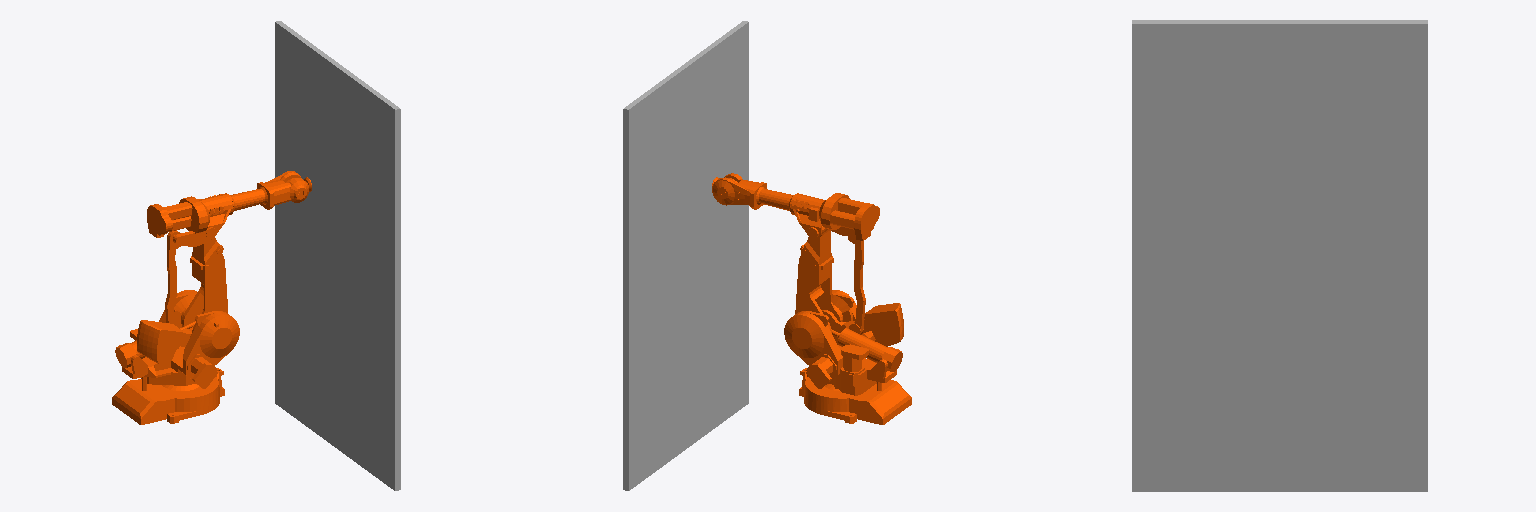
URDF robot description (irb4400):
<?xml version="1.0" ?>
<!-- =================================================================================== -->
<!-- |    This document was autogenerated by xacro from irb4400.urdf.xacro             | -->
<!-- |    EDITING THIS FILE BY HAND IS NOT RECOMMENDED                                 | -->
<!-- =================================================================================== -->
<robot name="irb4400" xmlns:xacro="http://www.ros.org/wiki/xacro">
  <material name="Black">
    <color rgba="0.0 0.0 0.0 1.0"/>
  </material>
  <material name="Blue">
    <color rgba="0.0 0.0 0.8 1.0"/>
  </material>
  <material name="Green">
    <color rgba="0.0 0.8 0.0 1.0"/>
  </material>
  <material name="Grey">
    <color rgba="0.5 0.5 0.5 1.0"/>
  </material>
  <material name="Light_Grey">
    <color rgba="0.8 0.8 0.8 1.0"/>
  </material>
  <material name="Ivory">
    <color rgba="1.0 1.0 0.94 1.0"/>
  </material>
  <material name="Orange">
    <color rgba="1.0 0.423529411765 0.0392156862745 1.0"/>
  </material>
  <material name="Brown">
    <color rgba="0.870588235294 0.811764705882 0.764705882353 1.0"/>
  </material>
  <material name="Red">
    <color rgba="0.8 0.0 0.0 1.0"/>
  </material>
  <material name="White">
    <color rgba="1.0 1.0 1.0 1.0"/>
  </material>
  <link name="base_link"/>
  <link name="the_wall">
    <visual>
      <origin rpy="0 0 0" xyz="0 0 0"/>
      <geometry>
        <box size="0.05 2 3.5"/>
      </geometry>
      <material name="LightGrey">
        <color rgba="0.75 0.75 0.75 1.0"/>
      </material>
    </visual>
    <collision>
      <origin rpy="0 0 0" xyz="0 0 0"/>
      <geometry>
        <box size="0.05 2 3.5"/>
      </geometry>
    </collision>
  </link>
  <link name="irb4400_link_1_base">
    <visual>
      <origin rpy="0 0 0" xyz="0 0 0"/>
      <geometry>
        <mesh filename="package://irb4400_description/meshes/link1.STL"/>
      </geometry>
      <material name="Orange"/>
    </visual>
    <collision>
      <origin rpy="0 0 0" xyz="0 0 0"/>
      <geometry>
        <mesh filename="package://irb4400_description/meshes/link1.STL"/>
      </geometry>
    </collision>
    <inertial>
      <origin rpy="0 0 0" xyz="-0.09014 0.00 -0.11602"/>
      <mass value="75.69606"/>
      <inertia ixx="2.02158864748" ixy="-0.00000245857" ixz="0.07215053239" iyy="3.96573960599" iyz="-0.00000018955" izz="5.58000931701"/>
    </inertial>
  </link>
  <link name="irb4400_link_2_secondbase">
    <visual>
      <origin rpy="0 0 0" xyz="0 0 0"/>
      <geometry>
        <mesh filename="package://irb4400_description/meshes/link2.STL"/>
      </geometry>
      <material name="Orange"/>
    </visual>
    <collision>
      <origin rpy="0 0 0" xyz="0 0 0"/>
      <geometry>
        <mesh filename="package://irb4400_description/meshes/link2.STL"/>
      </geometry>
    </collision>
    <inertial>
      <origin rpy="0 0 0" xyz="0.0231 0.02424 0.28312"/>
      <mass value="106.0064"/>
      <inertia ixx="7.76707391051" ixy="-0.65413192657" ixz="1.80808632391" iyy="6.55334982091" iyz="-0.21975875117" izz="8.63984458622"/>
    </inertial>
  </link>
  <link name="irb4400_link_3_cylinder">
    <visual>
      <origin rpy="0 0 0" xyz="0 0 0"/>
      <geometry>
        <mesh filename="package://irb4400_description/meshes/link3.STL"/>
      </geometry>
      <material name="Orange"/>
    </visual>
    <collision>
      <origin rpy="0 0 0" xyz="0 0 0"/>
      <geometry>
        <mesh filename="package://irb4400_description/meshes/link3.STL"/>
      </geometry>
    </collision>
    <inertial>
      <origin rpy="0 0 0" xyz="0.179 0.00 -0.00002"/>
      <mass value="11.53566"/>
      <inertia ixx="0.04074759034" ixy="0.00000000000" ixz="0.00004858592" iyy="0.30850932573" iyz="0.00" izz="0.30903668614"/>
    </inertial>
  </link>
  <link name="irb4400_link_4_piston">
    <visual>
      <origin rpy="0 0 0" xyz="0 0 0"/>
      <geometry>
        <mesh filename="package://irb4400_description/meshes/link4.STL"/>
      </geometry>
      <material name="Orange"/>
    </visual>
    <collision>
      <origin rpy="0 0 0" xyz="0 0 0"/>
      <geometry>
        <mesh filename="package://irb4400_description/meshes/link4.STL"/>
      </geometry>
    </collision>
    <inertial>
      <origin rpy="0 0 0" xyz="-0.24431 0.00 0.00"/>
      <mass value="0.75584"/>
      <inertia ixx="0.00019733407" ixy="0.00000000000" ixz="0.00" iyy="0.03156433794" iyz="0.00" izz="0.03148203319"/>
    </inertial>
  </link>
  <link name="irb4400_link_5_counterweight">
    <visual>
      <origin rpy="0 0 0" xyz="0 0 0"/>
      <geometry>
        <mesh filename="package://irb4400_description/meshes/link5.STL"/>
      </geometry>
      <material name="Orange"/>
    </visual>
    <collision>
      <origin rpy="0 0 0" xyz="0 0 0"/>
      <geometry>
        <mesh filename="package://irb4400_description/meshes/link5.STL"/>
      </geometry>
    </collision>
    <inertial>
      <origin rpy="0 0 0" xyz="-0.45632 -0.09644 0.03106"/>
      <mass value="19.39243"/>
      <inertia ixx="0.22343149172" ixy="0.11871670137" ixz="-0.00685091375" iyy="0.68945149758" iyz="-0.01963332363" izz="0.64664468298"/>
    </inertial>
  </link>
  <link name="irb4400_link_6_mountarm_back">
    <visual>
      <origin rpy="0 0 0" xyz="0 0 0"/>
      <geometry>
        <mesh filename="package://irb4400_description/meshes/link6.STL"/>
      </geometry>
      <material name="Orange"/>
    </visual>
    <collision>
      <origin rpy="0 0 0" xyz="0 0 0"/>
      <geometry>
        <mesh filename="package://irb4400_description/meshes/link6.STL"/>
      </geometry>
    </collision>
    <inertial>
      <origin rpy="0 0 0" xyz="-0.1777 -0.2234 0.46383"/>
      <mass value="3.12307"/>
      <inertia ixx="0.31945679899" ixy="0.00004669001" ixz="0.00538016881" iyy="0.32175995655" iyz="-0.00004947451" izz="0.00326582296"/>
    </inertial>
  </link>
  <link name="irb4400_link_6_auxiliary">
    <inertial>
      <origin rpy="0 0 0" xyz="0 0 0.89"/>
      <mass value="0.00"/>
      <inertia ixx="1" ixy="0" ixz="0" iyy="1" iyz="0" izz="1"/>
    </inertial>
  </link>
  <link name="irb4400_link_7_mountarm_front">
    <visual>
      <origin rpy="0 0 0" xyz="0 0 0"/>
      <geometry>
        <mesh filename="package://irb4400_description/meshes/link7.STL"/>
      </geometry>
      <material name="Orange"/>
    </visual>
    <collision>
      <origin rpy="0 0 0" xyz="0 0 0"/>
      <geometry>
        <mesh filename="package://irb4400_description/meshes/link7.STL"/>
      </geometry>
    </collision>
    <inertial>
      <origin rpy="0 0 0" xyz="0.06278 0.08805 0.40197"/>
      <mass value="30.98388"/>
      <inertia ixx="2.37305548407" ixy="-0.00037165355" ixz="-0.07708847390" iyy="2.35788846934" iyz="-0.03346985497" izz="0.29095169577"/>
    </inertial>
  </link>
  <link name="irb4400_link_8_armlink1">
    <visual>
      <origin rpy="0 0 0" xyz="0 0 0"/>
      <geometry>
        <mesh filename="package://irb4400_description/meshes/link8.STL"/>
      </geometry>
      <material name="Orange"/>
    </visual>
    <collision>
      <origin rpy="0 0 0" xyz="0 0 0"/>
      <geometry>
        <mesh filename="package://irb4400_description/meshes/link8.STL"/>
      </geometry>
    </collision>
    <inertial>
      <origin rpy="0 0 0" xyz="-0.12332 0.13239 0.13886"/>
      <mass value="3.141516"/>
      <inertia ixx="0.36751429290" ixy="0.01671715853" ixz="-0.03383121212" iyy="1.28059358192" iyz="0.01886768705" izz="1.30821199705"/>
    </inertial>
  </link>
  <link name="irb4400_link_9_armlink2">
    <visual>
      <origin rpy="0 0 0" xyz="0 0 0"/>
      <geometry>
        <mesh filename="package://irb4400_description/meshes/link9.STL"/>
      </geometry>
      <material name="Orange"/>
    </visual>
    <collision>
      <origin rpy="0 0 0" xyz="0 0 0"/>
      <geometry>
        <mesh filename="package://irb4400_description/meshes/link9.STL"/>
      </geometry>
    </collision>
    <inertial>
      <origin rpy="0 0 0" xyz="-0.41969 0.00412 -0.00114"/>
      <mass value="16.9654"/>
      <inertia ixx="0.09322623509" ixy="0.01368950722" ixz="0.00050654774" iyy="0.71290847900" iyz="0.00015788926" izz="0.73453378938"/>
    </inertial>
  </link>
  <link name="irb4400_link_10_verticalrotor">
    <visual>
      <origin rpy="0 0 0" xyz="0 0 0"/>
      <geometry>
        <mesh filename="package://irb4400_description/meshes/link10.STL"/>
      </geometry>
      <material name="Orange"/>
    </visual>
    <collision>
      <origin rpy="0 0 0" xyz="0 0 0"/>
      <geometry>
        <mesh filename="package://irb4400_description/meshes/link10.STL"/>
      </geometry>
    </collision>
    <inertial>
      <origin rpy="0 0 0" xyz="-0.00006 0.03324 0.00"/>
      <mass value="1.22576"/>
      <inertia ixx="0.00246087716" ixy="-0.00000112756" ixz="-0.00000000013" iyy="0.00465221441" iyz="0.00" izz="0.00320698422"/>
    </inertial>
  </link>
  <link name="irb4400_link_11_toolholder">
    <visual>
      <origin rpy="0 0 0" xyz="0 0 0"/>
      <geometry>
        <mesh filename="package://irb4400_description/meshes/link11.STL"/>
      </geometry>
      <material name="Orange"/>
    </visual>
    <collision>
      <origin rpy="0 0 0" xyz="0 0 0"/>
      <geometry>
        <mesh filename="package://irb4400_description/meshes/link11.STL"/>
      </geometry>
    </collision>
    <inertial>
      <origin rpy="0 0 0" xyz="-0.06688 0.00 -0.00006"/>
      <mass value="0.42133"/>
      <inertia ixx="0.00038671431" ixy="0.00000000000" ixz="-0.00000145510" iyy="0.00192619966" iyz="0.00" izz="0.00192737654"/>
    </inertial>
  </link>
  <link name="irb4400_link_gripping_system">
    <visual>
      <origin rpy="0 -1.57079632679 0" xyz="0.0604565 0 -0.39595"/>
      <geometry>
        <mesh filename="package://irb4400_description/meshes/gripping_system.STL"/>
      </geometry>
      <material name="DarkGreen">
        <color rgba="0.15 0.35 0.0 1.0"/>
      </material>
    </visual>
    <collision name="irb4400_link_11_toolholder_collision_irb4400_link_gripping_system">
      <origin rpy="0 -1.57079632679 0" xyz="0.0604565 0 -0.39595"/>
      <geometry>
        <mesh filename="package://irb4400_description/meshes/gripping_system.STL"/>
      </geometry>
    </collision>
    <inertial>
      <!-- center of mass in STL files frame: (0.394043, 0.000987, -0.035984) -->
      <origin rpy="0 1.57079632679 0" xyz="0.3335865 0.000987 0.359966"/>
      <mass value="15.893435"/>
      <inertia ixx="0.054512" ixy="-0.001047" ixz="-0.000971" iyy="0.372263" iyz="0.000978" izz="0.343699"/>
    </inertial>
  </link>
  <!--link name="irb4400_link_rebar">
    <visual>
      <origin rpy="1.57079632679 0 0" xyz="0 0 0"/>
      <geometry>
        <mesh filename="package://irb4400_description/meshes/rebar.STL"/>
      </geometry>
      <material name="Grey"/>
    </visual>
    <collision>
       <origin rpy="1.57079632679 0 0" xyz="0 0 0"></origin>
       <geometry>
          <mesh filename="package://irb4400_description/meshes/rebar.STL"></mesh>
       </geometry>
    </collision>
    <inertial>
      <origin rpy="1.57079632679 0 0" xyz="0 0 0"/>
      <mass value="18.8194"/>
      <inertia ixx="0.01411575191543" ixy="0.00"             ixz="0.00" 
                                      iyy="0.00000240888277" iyz="0.00" 
                                                             izz="0.01411575191543"/>
    </inertial>
  </link-->
  <joint name="joint_wall_to_world" type="fixed">
    <parent link="base_link"/>
    <child link="the_wall"/>
    <origin xyz="1.5 0 1"/>
  </joint>
  <joint name="irb4400_joint_base_to_baselink" type="fixed">
    <parent link="base_link"/>
    <child link="irb4400_link_1_base"/>
    <origin xyz="0 0 0.218"/>
  </joint>
  <joint name="irb4400_joint_1_2" type="revolute">
    <parent link="irb4400_link_1_base"/>
    <child link="irb4400_link_2_secondbase"/>
    <!--limit effort="100000.0" lower="-2.88" upper="2.88" velocity="2.62"/-->
    <limit effort="100000.0" lower="-1.0" upper="1.0" velocity="2.62"/>
    <axis xyz="0 0 1"/>
    <origin xyz="0 0 0"/>
  </joint>
  <!--joint name="irb4400_joint_2_3" type="revolute">
    <parent link="irb4400_link_2_secondbase"/>
    <child link="irb4400_link_3_cylinder"/>
    <limit effort="1000.0" lower="-3.14" upper="3.14" velocity="1000"/>
    <axis xyz="0 1 0"/>
    <origin xyz="-0.47929 0.047 0.32047" rpy="0 -0.20909044 0"/>
  </joint-->
  <joint name="irb4400_joint_2_3" type="fixed">
    <parent link="irb4400_link_2_secondbase"/>
    <child link="irb4400_link_3_cylinder"/>
    <origin rpy="0 -0.20909044 0" xyz="-0.47929 0.047 0.32047"/>
  </joint>
  <!--joint name="irb4400_joint_3_4" type="prismatic">
    <parent link="irb4400_link_3_cylinder"/>
    <child link="irb4400_link_4_piston"/>
    <limit effort="1000.0" lower="-0.5" upper="0.1" velocity="1000"/>
    <axis xyz="1 0 0"/>
    <origin xyz="0.81882 0.00 0.00"/>
  </joint-->
  <joint name="irb4400_joint_3_4" type="fixed">
    <parent link="irb4400_link_3_cylinder"/>
    <child link="irb4400_link_4_piston"/>
    <origin xyz="0.81882 0.00 0.00"/>
  </joint>
  <joint name="irb4400_joint_2_7" type="revolute">
    <parent link="irb4400_link_2_secondbase"/>
    <child link="irb4400_link_7_mountarm_front"/>
    <limit effort="100000.0" lower="-1.22" upper="1.66" velocity="2.09"/>
    <axis xyz="0 1 0"/>
    <origin xyz="0.2 -0.0835 0.462"/>
  </joint>
  <!--joint name="irb4400_joint_7_5" type="revolute">
    <parent link="irb4400_link_7_mountarm_front"/>
    <child link="irb4400_link_5_counterweight"/>
    <limit effort="1000.0" lower="-3.14" upper="3.14" velocity="1000"/>
    <axis xyz="0 1 0"/>
    <origin xyz="0 0 0"/>
  </joint-->
  <joint name="irb4400_joint_7_5" type="fixed">
    <parent link="irb4400_link_7_mountarm_front"/>
    <child link="irb4400_link_5_counterweight"/>
    <origin xyz="0 0 0"/>
  </joint>
  <!--joint name="irb4400_joint_5_6" type="revolute">
    <parent link="irb4400_link_5_counterweight"/>
    <child link="irb4400_link_6_mountarm_back"/>
    <limit effort="1000.0" lower="-3.14" upper="3.14" velocity="1000"/>
    <axis xyz="0 1 0"/>
    <origin xyz="-0.3 0.005 0.00"/>
  </joint-->
  <joint name="irb4400_joint_5_6" type="fixed">
    <parent link="irb4400_link_5_counterweight"/>
    <child link="irb4400_link_6_mountarm_back"/>
    <origin xyz="-0.3 0.005 0.00"/>
  </joint>
  <joint name="irb4400_joint_6_6aux" type="fixed">
    <parent link="irb4400_link_6_mountarm_back"/>
    <child link="irb4400_link_6_auxiliary"/>
    <axis xyz="0 0 0"/>
    <origin xyz="0.0 0.0 0.89"/>
  </joint>
  <joint name="irb4400_joint_7_8" type="revolute">
    <parent link="irb4400_link_7_mountarm_front"/>
    <child link="irb4400_link_8_armlink1"/>
    <limit effort="100000.0" lower="-1.5" upper="1.13" velocity="2.09"/>
    <axis xyz="0 1 0"/>
    <origin xyz="0.0 -0.069 0.89"/>
  </joint>
  <joint name="irb4400_joint_8_9" type="revolute">
    <parent link="irb4400_link_8_armlink1"/>
    <child link="irb4400_link_9_armlink2"/>
    <limit effort="100000.0" lower="-3.49" upper="3.49" velocity="3.93"/>
    <axis xyz="1 0 0"/>
    <origin xyz="0.2486 0.1525 0.15"/>
  </joint>
  <joint name="irb4400_joint_9_10" type="revolute">
    <parent link="irb4400_link_9_armlink2"/>
    <child link="irb4400_link_10_verticalrotor"/>
    <limit effort="100000.0" lower="-2.09" upper="2.09" velocity="4.36"/>
    <axis xyz="0 1 0"/>
    <origin xyz="0.6314 -0.03325 0.00"/>
  </joint>
  <joint name="irb4400_joint_10_11" type="revolute">
    <parent link="irb4400_link_10_verticalrotor"/>
    <child link="irb4400_link_11_toolholder"/>
    <limit effort="100000.0" lower="-6.98" upper="6.98" velocity="5.76"/>
    <axis xyz="1 0 0"/>
    <origin xyz="0.14 0.03325 0.00"/>
  </joint>
  <joint name="irb4400_joint_11_gripping_system" type="fixed">
    <parent link="irb4400_link_11_toolholder"/>
    <child link="irb4400_link_gripping_system"/>
    <origin xyz="0.0404565 0.00 0.00"/>
  </joint>
  <!--joint name="irb4400_joint_gripping_system_rebar" type="fixed">
    <parent link="irb4400_link_gripping_system"/>
    <child link="irb4400_link_rebar"/>
    <origin xyz="0.18 0.00 0.00"/>
  </joint-->
  <gazebo>
    <plugin filename="libgazebo_ros_control.so" name="gazebo_ros_controller">
      <robotNamespace>/irb4400</robotNamespace>
    </plugin>
    <!--joint name="irb4400_joint_7_4" type="revolute">
      <parent>irb4400_link_7_mountarm_front</parent>
      <child>irb4400_link_4_piston</child>
      <axis>
        <xyz>0 1 0</xyz>
      </axis>
      <pose>0.1217 0.1305 0.0284 0 0 0</pose>
    </joint-->
    <!--joint name="irb4400_joint_8_6aux" type="revolute">
      <parent>irb4400_link_8_armlink1</parent>
      <child>irb4400_link_6_auxiliary</child>
      <axis>
        <xyz>0 1 0</xyz>
      </axis>
      <pose>-0.3 0.074 0.00 0 0 0</pose>
    </joint-->
  </gazebo>
  <gazebo reference="irb4400_link_1_base">
    <material>Gazebo/Orange</material>
  </gazebo>
  <gazebo reference="irb4400_link_2_secondbase">
    <material>Gazebo/Orange</material>
  </gazebo>
  <gazebo reference="irb4400_link_3_cylinder">
    <material>Gazebo/Orange</material>
  </gazebo>
  <gazebo reference="irb4400_link_4_piston">
    <material>Gazebo/Orange</material>
  </gazebo>
  <gazebo reference="irb4400_link_5_counterweight">
    <material>Gazebo/Orange</material>
  </gazebo>
  <gazebo reference="irb4400_link_6_mountarm_back">
    <material>Gazebo/Orange</material>
  </gazebo>
  <gazebo reference="irb4400_link_6_auxiliary">
    <material>Gazebo/Orange</material>
  </gazebo>
  <gazebo reference="irb4400_link_7_mountarm_front">
    <material>Gazebo/Orange</material>
  </gazebo>
  <gazebo reference="irb4400_link_8_armlink1">
    <material>Gazebo/Orange</material>
  </gazebo>
  <gazebo reference="irb4400_link_9_armlink2">
    <material>Gazebo/Orange</material>
  </gazebo>
  <gazebo reference="irb4400_link_10_verticalrotor">
    <material>Gazebo/Orange</material>
  </gazebo>
  <gazebo reference="irb4400_link_11_toolholder">
    <material>Gazebo/Orange</material>
  </gazebo>
  <gazebo reference="irb4400_link_gripping_system">
    <material>Gazebo/Orange</material>
    <sensor name="link_gripping_system_contact_sensor" type="contact">
      <always_on>true</always_on>
      <update_rate>5</update_rate>
      <contact>
        <collision>irb4400_link_11_toolholder_collision_irb4400_link_gripping_system</collision>
        <topic>/irb4400/contact_forces</topic>
      </contact>
      <plugin filename="libgazebo_ros_bumper.so" name="link_gripping_system_bumper">
        <bumperTopicName>/irb4400/contact_forces</bumperTopicName>
        <frameName>irb4400_link_gripping_system</frameName>
      </plugin>
    </sensor>
  </gazebo>
  <transmission name="irb4400_transmission_1">
    <type>transmission_interface/SimpleTransmission</type>
    <joint name="irb4400_joint_1_2">
      <hardwareInterface>VelocityJointInterface</hardwareInterface>
    </joint>
    <actuator name="irb4400_motor_1">
      <hardwareInterface>VelocityJointInterface</hardwareInterface>
      <mechanicalReduction>1</mechanicalReduction>
    </actuator>
  </transmission>
  <transmission name="irb4400_transmission_2">
    <type>transmission_interface/SimpleTransmission</type>
    <joint name="irb4400_joint_2_7">
      <hardwareInterface>VelocityJointInterface</hardwareInterface>
    </joint>
    <actuator name="irb4400_motor_2">
      <hardwareInterface>VelocityJointInterface</hardwareInterface>
      <mechanicalReduction>1</mechanicalReduction>
    </actuator>
  </transmission>
  <transmission name="irb4400_transmission_3">
    <type>transmission_interface/SimpleTransmission</type>
    <joint name="irb4400_joint_7_8">
      <hardwareInterface>VelocityJointInterface</hardwareInterface>
    </joint>
    <actuator name="irb4400_motor_3">
      <hardwareInterface>VelocityJointInterface</hardwareInterface>
      <mechanicalReduction>1</mechanicalReduction>
    </actuator>
  </transmission>
  <transmission name="irb4400_transmission_4">
    <type>transmission_interface/SimpleTransmission</type>
    <joint name="irb4400_joint_8_9">
      <hardwareInterface>VelocityJointInterface</hardwareInterface>
    </joint>
    <actuator name="irb4400_motor_4">
      <hardwareInterface>VelocityJointInterface</hardwareInterface>
      <mechanicalReduction>1</mechanicalReduction>
    </actuator>
  </transmission>
  <transmission name="irb4400_transmission_5">
    <type>transmission_interface/SimpleTransmission</type>
    <joint name="irb4400_joint_9_10">
      <hardwareInterface>VelocityJointInterface</hardwareInterface>
    </joint>
    <actuator name="irb4400_motor_5">
      <hardwareInterface>VelocityJointInterface</hardwareInterface>
      <mechanicalReduction>1</mechanicalReduction>
    </actuator>
  </transmission>
  <transmission name="irb4400_transmission_6">
    <type>transmission_interface/SimpleTransmission</type>
    <joint name="irb4400_joint_10_11">
      <hardwareInterface>VelocityJointInterface</hardwareInterface>
    </joint>
    <actuator name="irb4400_motor_6">
      <hardwareInterface>VelocityJointInterface</hardwareInterface>
      <mechanicalReduction>1</mechanicalReduction>
    </actuator>
  </transmission>
  <!--transmission name="irb4400_transmission_56">
      <type>transmission_interface/SimpleTransmission</type>
      <joint name="irb4400_joint_5_6">
        <hardwareInterface>${hardware_interface}</hardwareInterface>
      </joint>
      <actuator name="irb4400_motor_56">
        <hardwareInterface>${hardware_interface}</hardwareInterface>
        <mechanicalReduction>1</mechanicalReduction>
      </actuator>
    </transmission-->
</robot>

--- Facts derived from the render (not from the file) ---
Views: 3 orthographic renders of the robot side by side, from view 1: azimuth 30°, elevation 25°; view 2: azimuth 150°, elevation 25°; view 3: azimuth 270°, elevation 25°.
Model irb4400 with 15 links and 14 joints (6 revolute, 8 fixed), rooted at base_link, posed every joint at zero.
Links seen in each view (by area): view 1: the_wall, irb4400_link_2_secondbase, irb4400_link_1_base, irb4400_link_8_armlink1, irb4400_link_7_mountarm_front, irb4400_link_9_armlink2, irb4400_link_5_counterweight, irb4400_link_6_mountarm_back; view 2: the_wall, irb4400_link_2_secondbase, irb4400_link_1_base, irb4400_link_8_armlink1, irb4400_link_7_mountarm_front, irb4400_link_9_armlink2, irb4400_link_5_counterweight, irb4400_link_3_cylinder, irb4400_link_6_mountarm_back; view 3: the_wall.
Boxes of the visible links, <box> form: the_wall: <box>275,21,400,490</box>; irb4400_link_2_secondbase: <box>118,290,239,390</box>; irb4400_link_1_base: <box>112,368,224,424</box>; irb4400_link_8_armlink1: <box>147,193,233,246</box>; irb4400_link_7_mountarm_front: <box>182,237,227,326</box>; irb4400_link_9_armlink2: <box>226,171,308,213</box>; irb4400_link_5_counterweight: <box>137,320,193,366</box>; irb4400_link_6_mountarm_back: <box>165,230,180,324</box>; the_wall: <box>623,21,748,490</box>; irb4400_link_2_secondbase: <box>784,290,898,395</box>; irb4400_link_1_base: <box>799,368,911,424</box>; irb4400_link_8_armlink1: <box>790,193,879,240</box>; irb4400_link_7_mountarm_front: <box>795,226,841,326</box>; irb4400_link_9_armlink2: <box>712,173,797,213</box>; irb4400_link_5_counterweight: <box>822,303,903,346</box>; irb4400_link_3_cylinder: <box>838,328,902,371</box>; irb4400_link_6_mountarm_back: <box>848,229,865,333</box>; the_wall: <box>1132,20,1427,491</box>.
Bounding box of the posed robot: 2.09 × 2 × 3.5 m (x, y, z).
Meshes: 12 distinct files referenced, 11 mesh visuals loaded (11 binary STL); not drawn: 1 (reference not matched to a file when rendering).